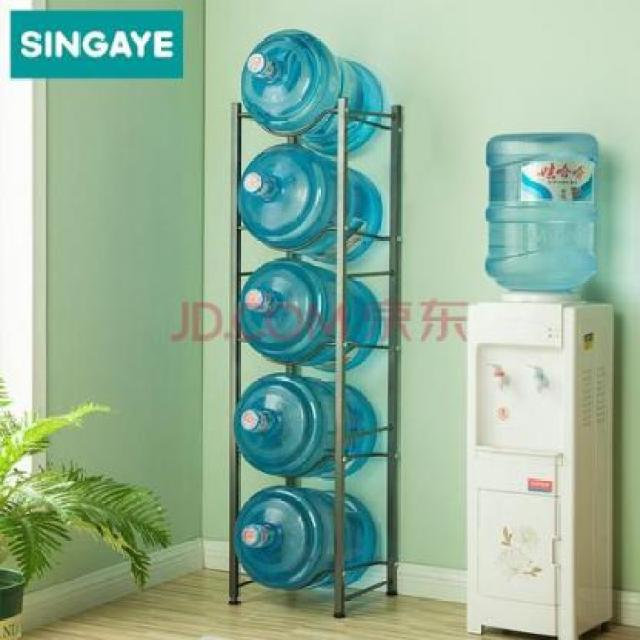coolerbottle: (240, 24, 388, 156), (236, 143, 390, 266), (235, 254, 391, 375)
